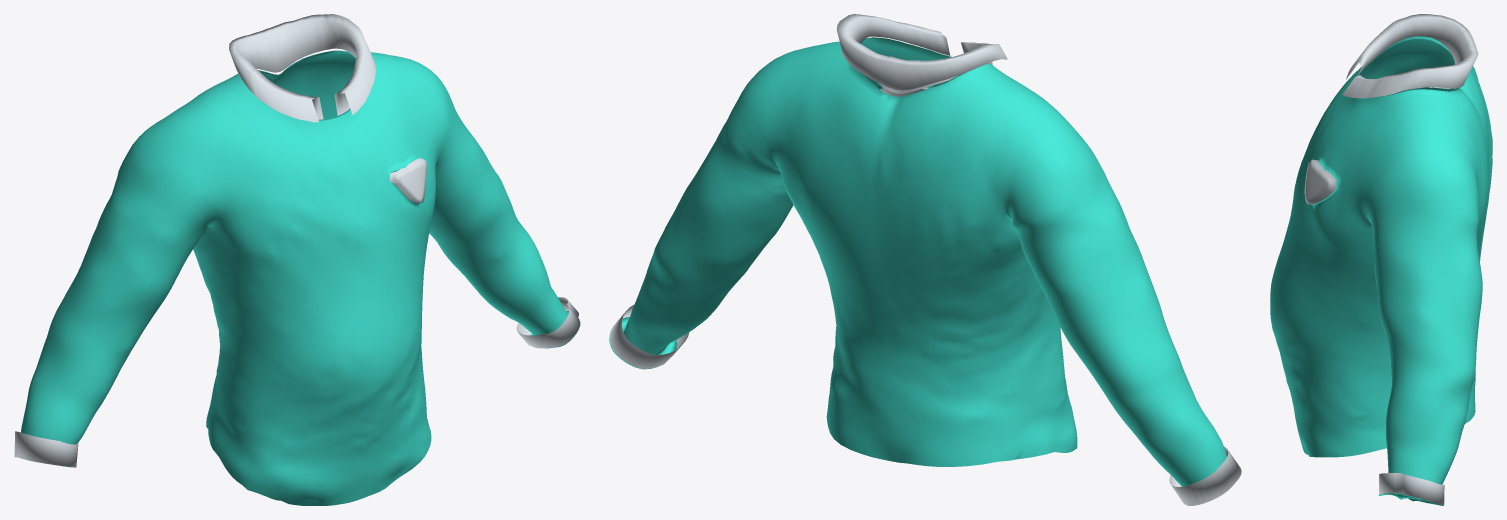
The model's file is Male-Large-shirtWithAbbi.glb.
3 views of the same model, side by side, from view 1: azimuth 30°, elevation 25°; view 2: azimuth 150°, elevation 25°; view 3: azimuth 270°, elevation 25° (orthographic). The views are drawn at different scales.
Visible parts, largest first — view 1: Group1.033; view 2: Group1.033; view 3: Group1.033.
Boxes of the visible parts, x1,y1,x2,y2 form: Group1.033: [14, 14, 580, 505]; Group1.033: [609, 14, 1241, 505]; Group1.033: [1270, 14, 1492, 505].
Bounding box in the file's own units: 1.9 × 1.35 × 0.6745.
